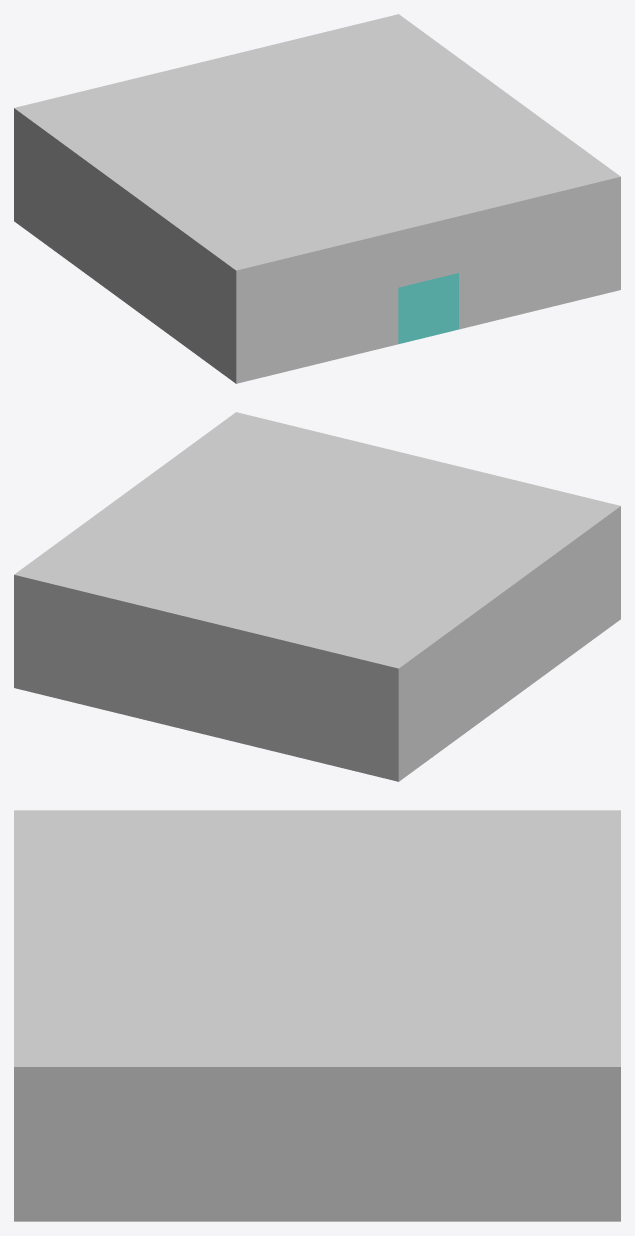
Rendered from SupermarketBackground.fbx.
3 renders of one model, top to bottom at view 1: azimuth 30°, elevation 25°; view 2: azimuth 150°, elevation 25°; view 3: azimuth 270°, elevation 25°, orthographic. The views are drawn at different scales.
Parts seen in each view (by area): view 1: Plane; view 2: Plane; view 3: Plane.
Part boxes in pixels (x1,y1,x2,y2): Plane: [14, 14, 620, 383]; Plane: [14, 412, 620, 781]; Plane: [14, 810, 620, 1221].
Bounding box in the file's own units: 69010 × 19414 × 69010.
